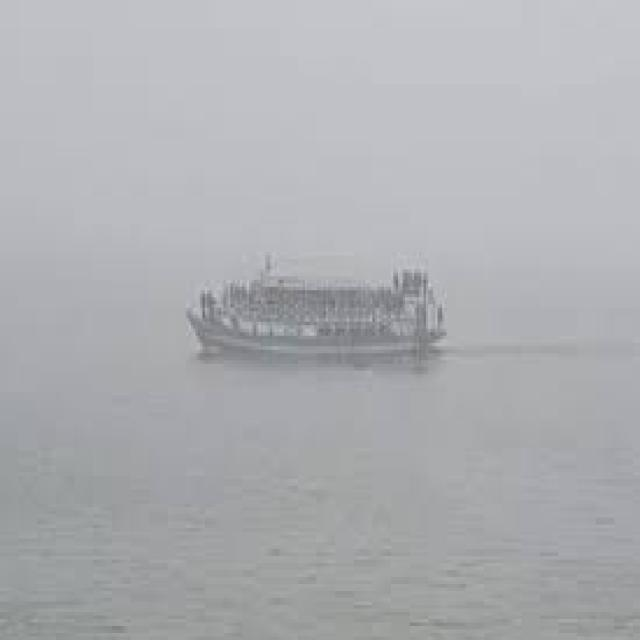passenger ship: (172, 234, 459, 361)
